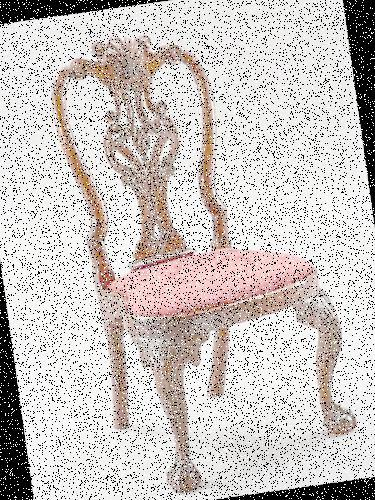Silla: (39, 10, 369, 499)
